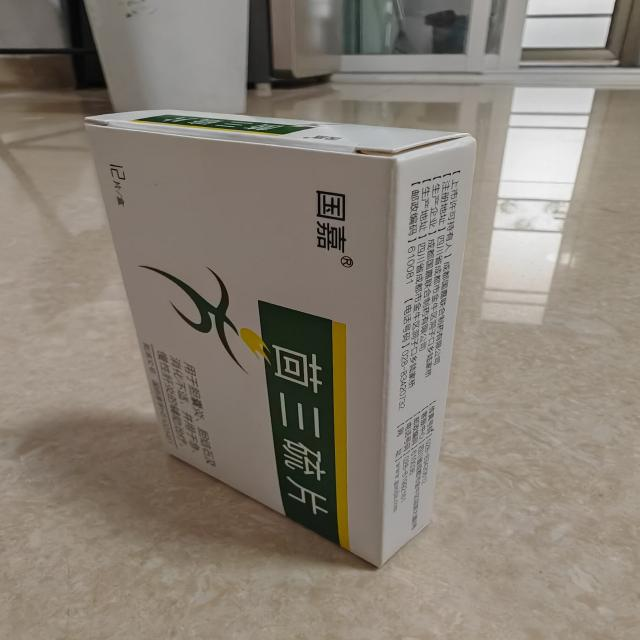box: (78, 97, 486, 574)
